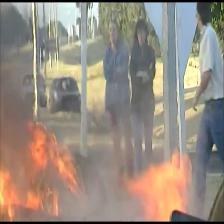fire: (0, 126, 86, 219), (123, 152, 202, 215)
smoke: (0, 5, 66, 123)
